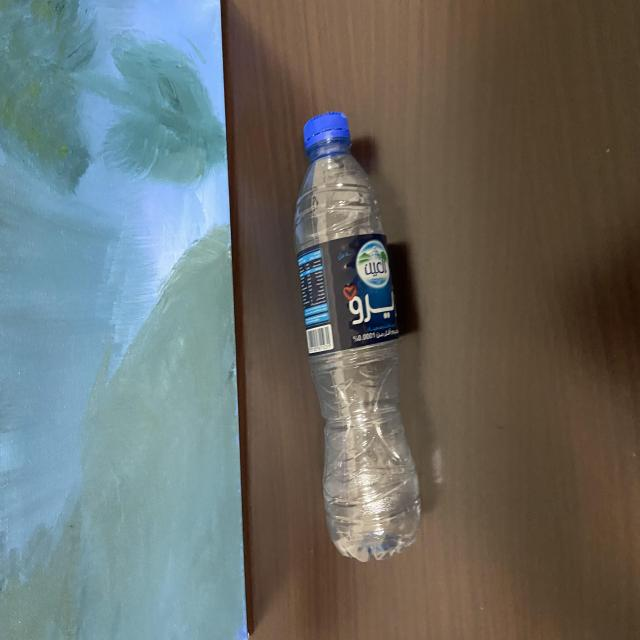bottle: (281, 96, 450, 576)
